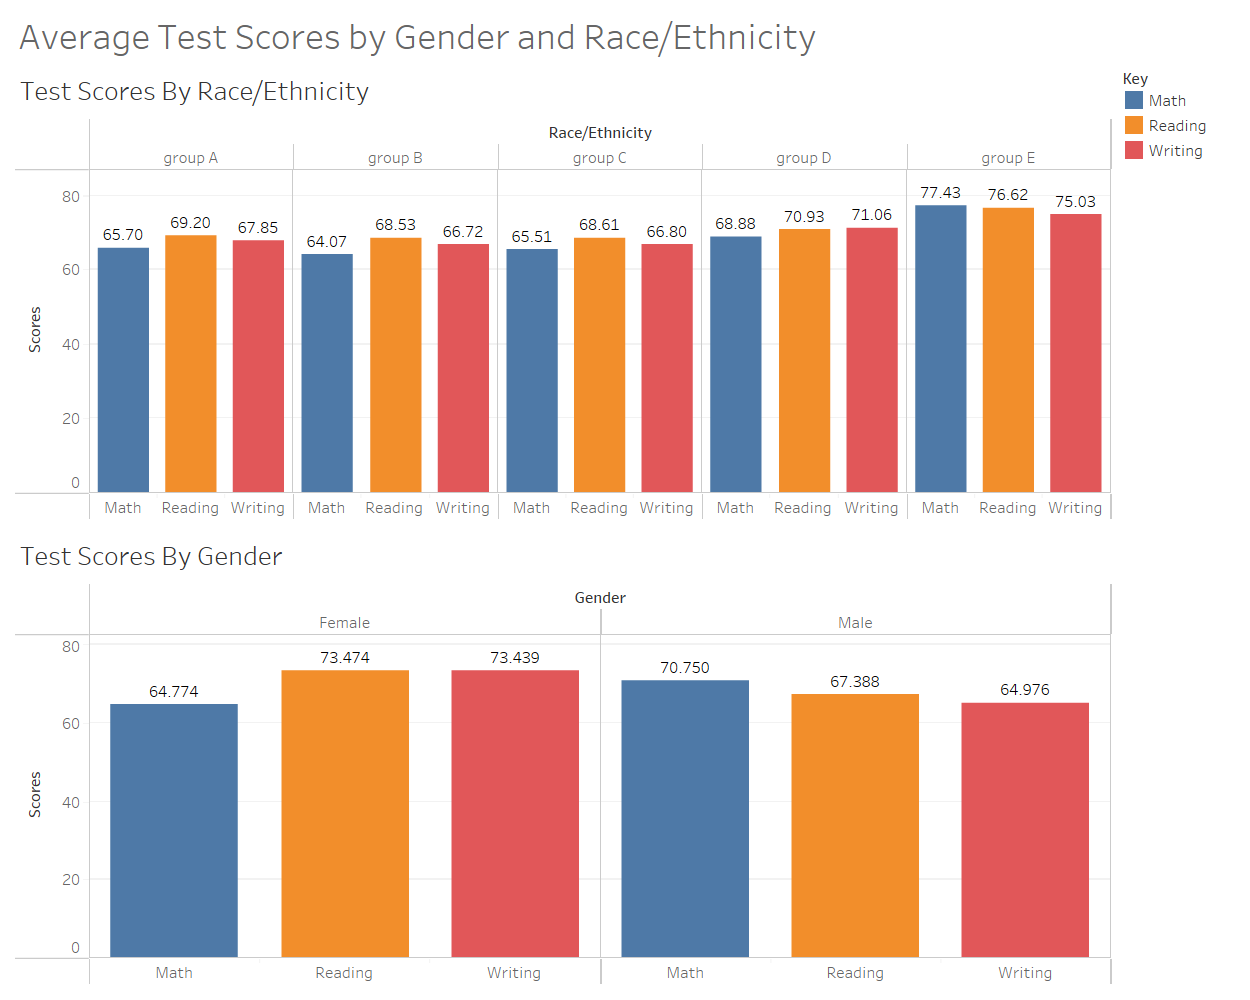

This screenshot's page, from the dashboard's own definition file:
{"tool":"tableau","page":{"name":"Race and Gender","canvas":[1000,800],"ordinal":8},"visuals":[{"type":"text","box":[8,8,984,40]},{"type":"worksheet","title":"Test Scores By Race/Ethnicity","mark":"Automatic","cols":["race/ethnicity"],"box":[8,48,885,372]},{"type":"legend","title":"Test Scores By Race/Ethnicity","param":"[federated.1rpkfk31ospmxf11dudpf1u35wb3 (copy 2)].[:Measure Names]","box":[893,48,99,86]},{"type":"worksheet","title":"Test Scores By Gender","mark":"Automatic","cols":["gender"],"box":[8,420,885,372]}]}

Visuals, with their boxes in screenshot pixels (x1, y1, x2, y2), scaled from the page's 1000x800 canvas onto the 1250x1000 screenshot:
text: 10, 10, 1240, 60
"Test Scores By Race/Ethnicity" worksheet: 10, 60, 1116, 525
"Test Scores By Race/Ethnicity" legend: 1116, 60, 1240, 168
"Test Scores By Gender" worksheet: 10, 525, 1116, 990
